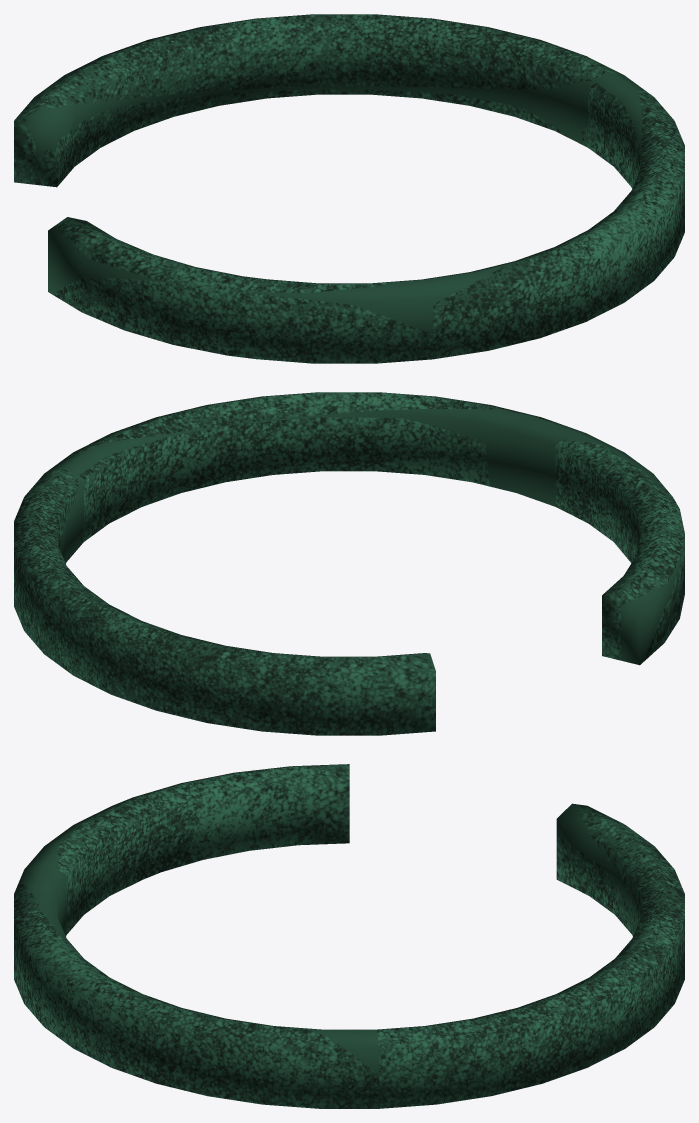
File: Ring1.fbx
The picture shows the model from 3 angles, top to bottom: view 1: azimuth 30°, elevation 25°; view 2: azimuth 150°, elevation 25°; view 3: azimuth 270°, elevation 25°; orthographic projection.
Parts seen in each view (by area): view 1: Ring1; view 2: Ring1; view 3: Ring1.
Part boxes in pixels (box(x1,y1,x2,y2)): Ring1: box(14, 14, 684, 363); Ring1: box(14, 392, 684, 735); Ring1: box(14, 764, 684, 1108).
Bounding box in the file's own units: 3512 × 400 × 3506.
